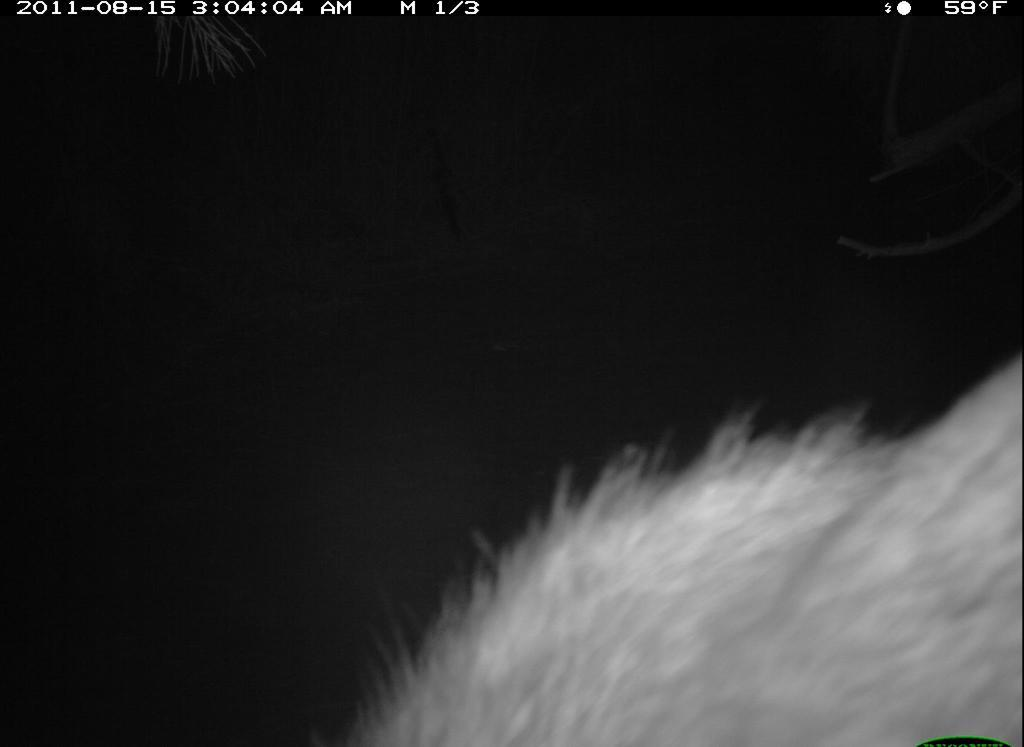raccoon: (321, 340, 1023, 747)
